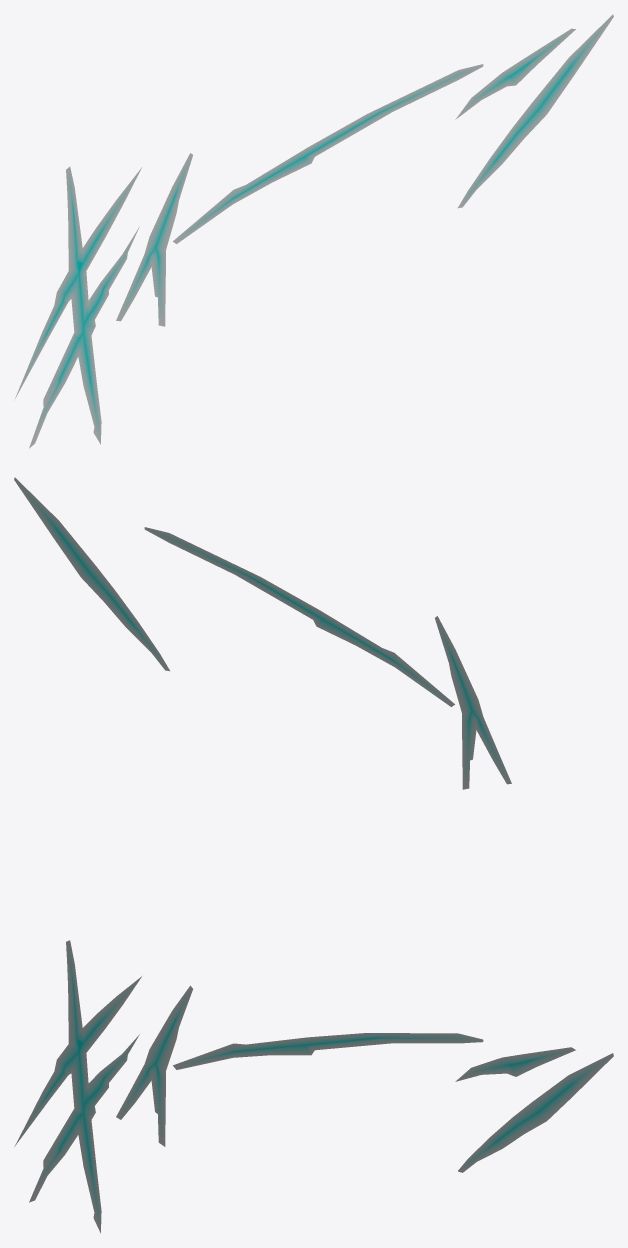
File: SM_EFF_Text_Rasengan_01.glb
The picture shows the model from 3 angles, top to bottom: view 1: azimuth 30°, elevation 25°; view 2: azimuth 150°, elevation 25°; view 3: azimuth 330°, elevation 25°; orthographic projection.
Parts seen in each view (by area): view 1: SM_EFF_Text_Rasengan_01; view 2: SM_EFF_Text_Rasengan_01; view 3: SM_EFF_Text_Rasengan_01.
Boxes of the visible parts, x1,y1,x2,y2 form: SM_EFF_Text_Rasengan_01: (14, 14, 613, 448); SM_EFF_Text_Rasengan_01: (14, 477, 511, 789); SM_EFF_Text_Rasengan_01: (14, 940, 613, 1233).
Size of the model in its own units: 1.8 by 0.8783 by 1.14e-07.
